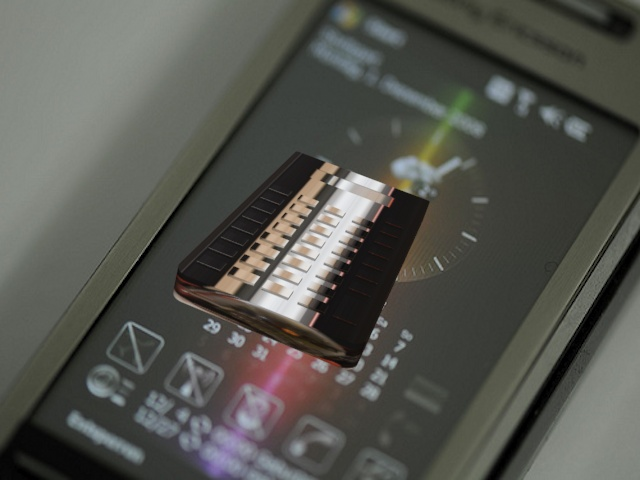calculator: (161, 145, 432, 384)
